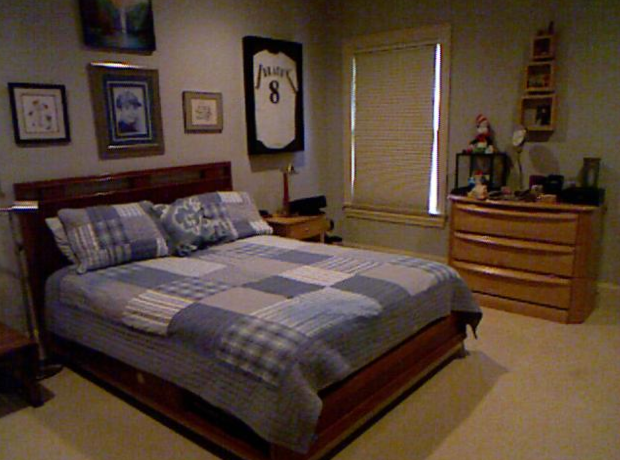cabinet: (276, 216, 325, 235)
cabinetDoor: (456, 212, 569, 239), (458, 242, 567, 264), (485, 278, 566, 299), (294, 222, 316, 235)
window: (353, 55, 435, 205)
